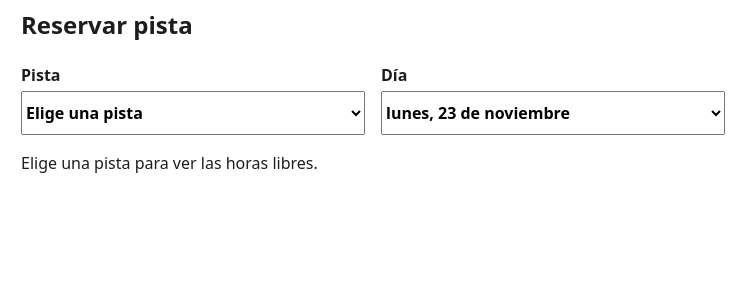
Test: Reservar › enseña el mensaje de la API cuando rechaza la reserva
The width and height of the screenshot is (747, 304).
Select "Pista 1 (tenis)" in the dropdown labelled "Pista" at point(193, 113), box [21,91,365,135]
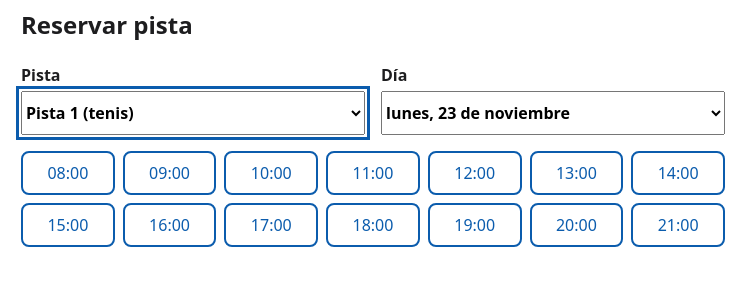
Select "martes, 24 de noviembre" in the dropdown labelled "Día" at point(553, 113), box [381,91,725,135]
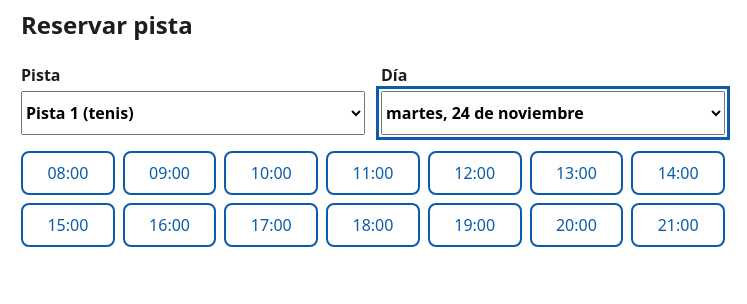
Click the button named "Reservar a las 10:00" at point(271, 173), box [224,151,318,195]
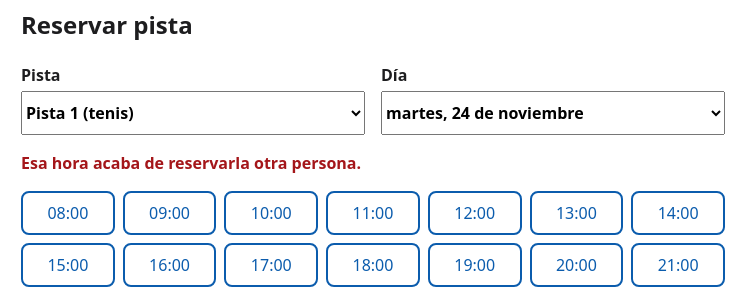
Expected: the message reads "Esa hora acaba de reservarla otra persona.", [21,152,361,174]
